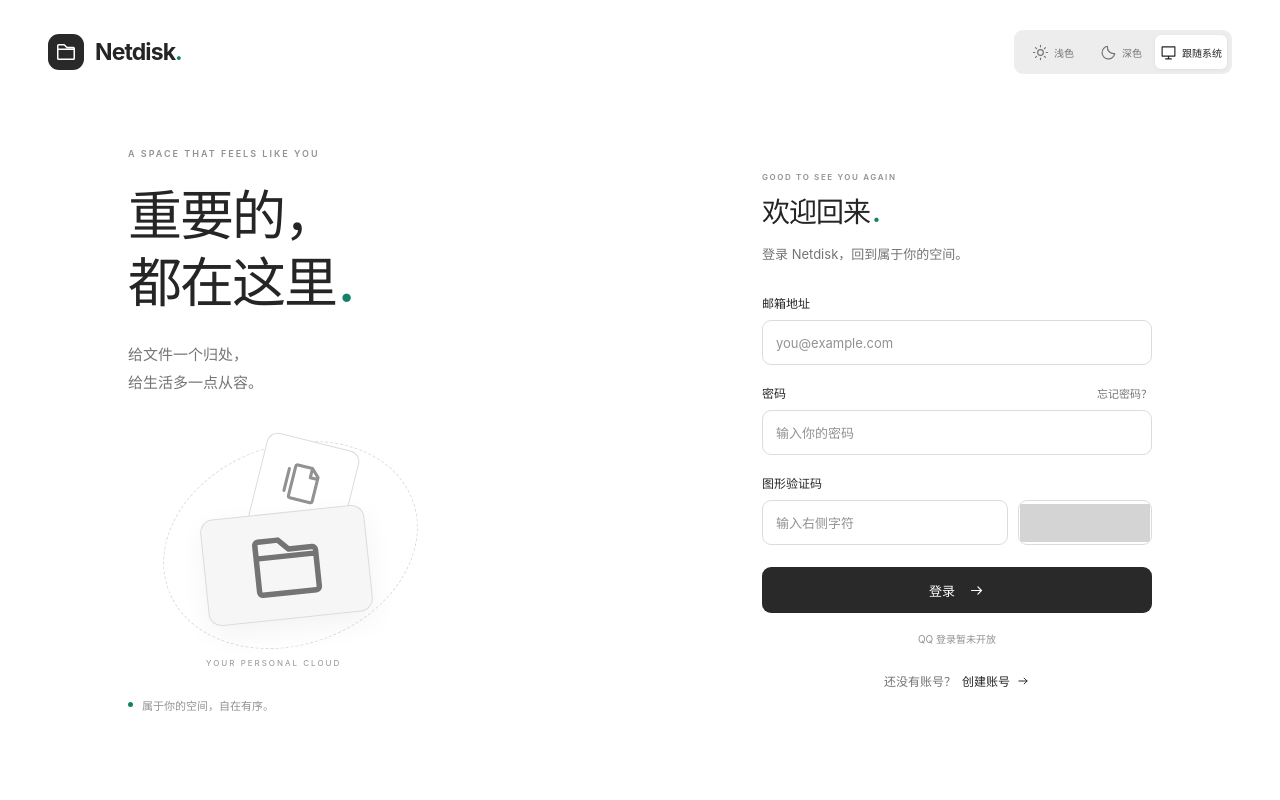
Scenario: 账号表单 › 登录失败显示服务端原因并刷新一次性验证码
Type "someone@example.com" into the field with id "email" at [957, 343], box [762,320,1152,365]
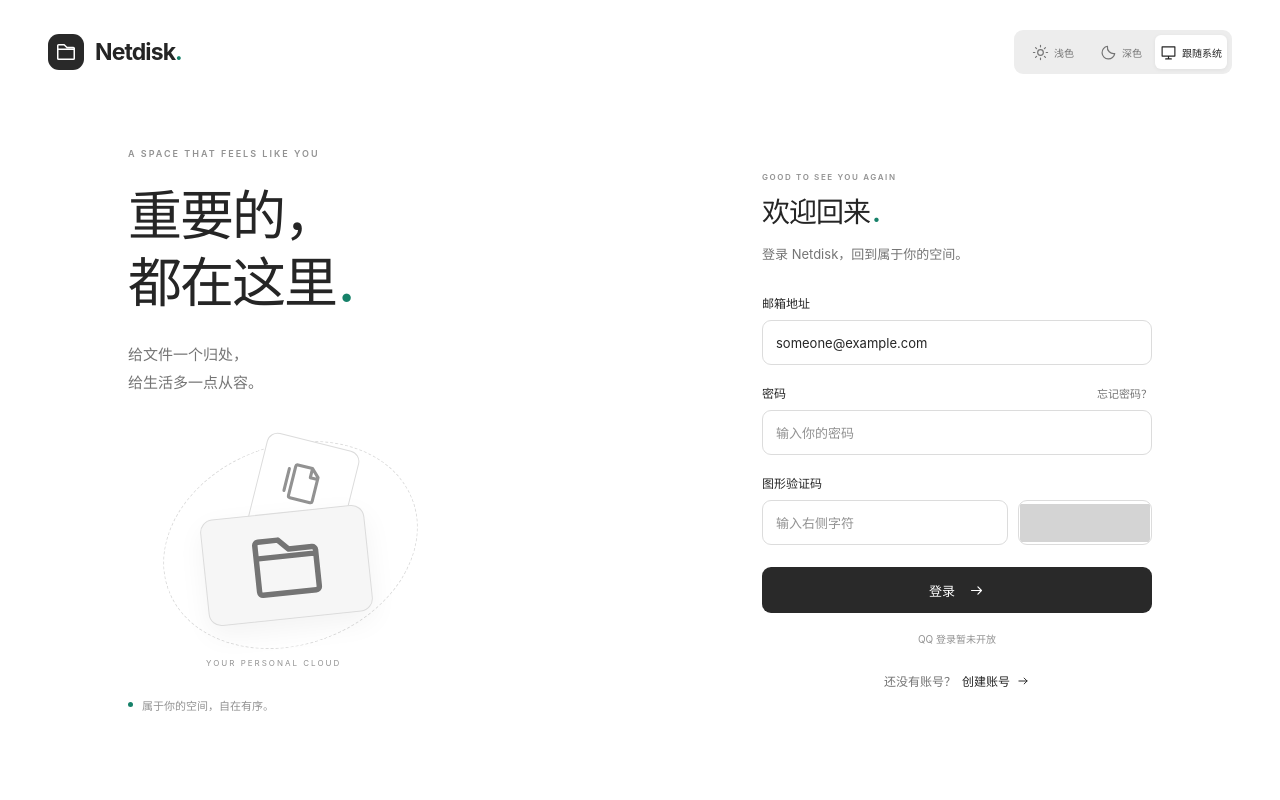
Type "Secret1!" into the password field labelled "密码" at [957, 433], box [762,410,1152,455]
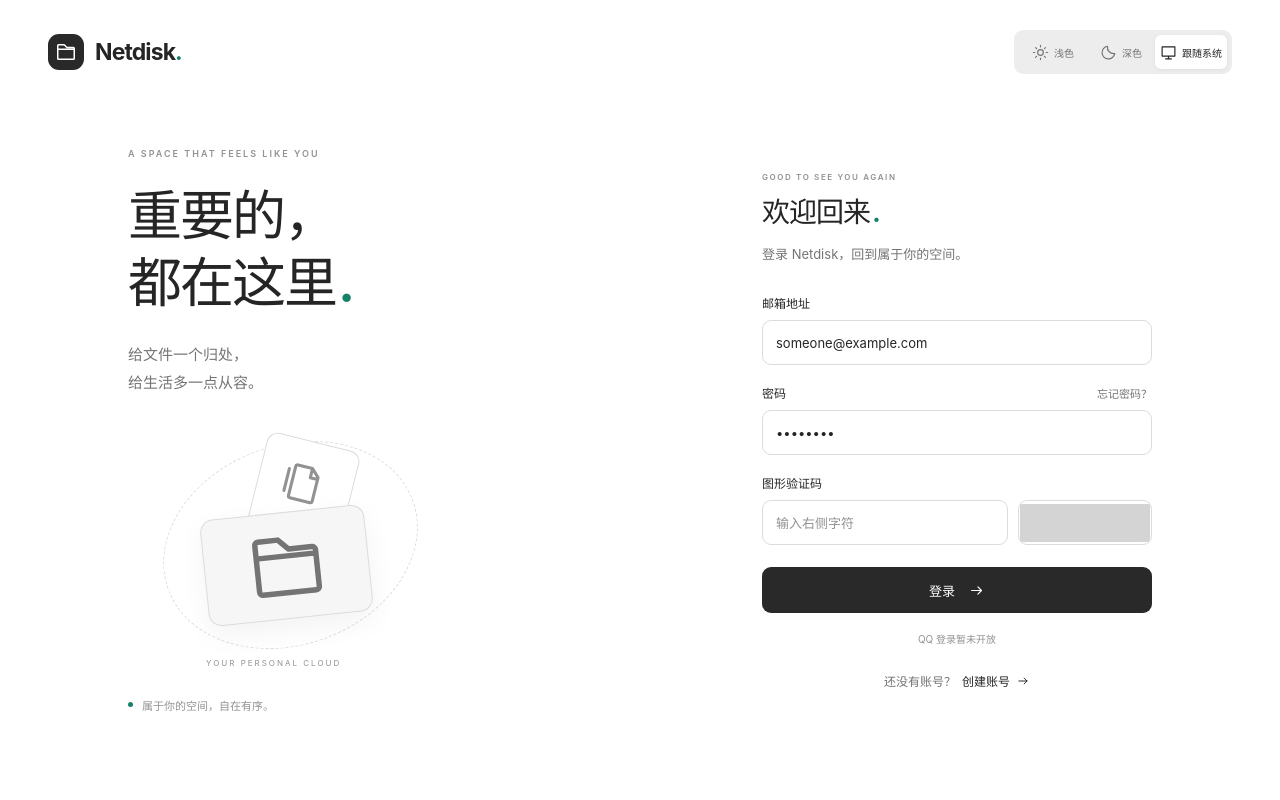
Type "AB123" into the field with id "check-code" at [885, 523], box [762,500,1008,545]
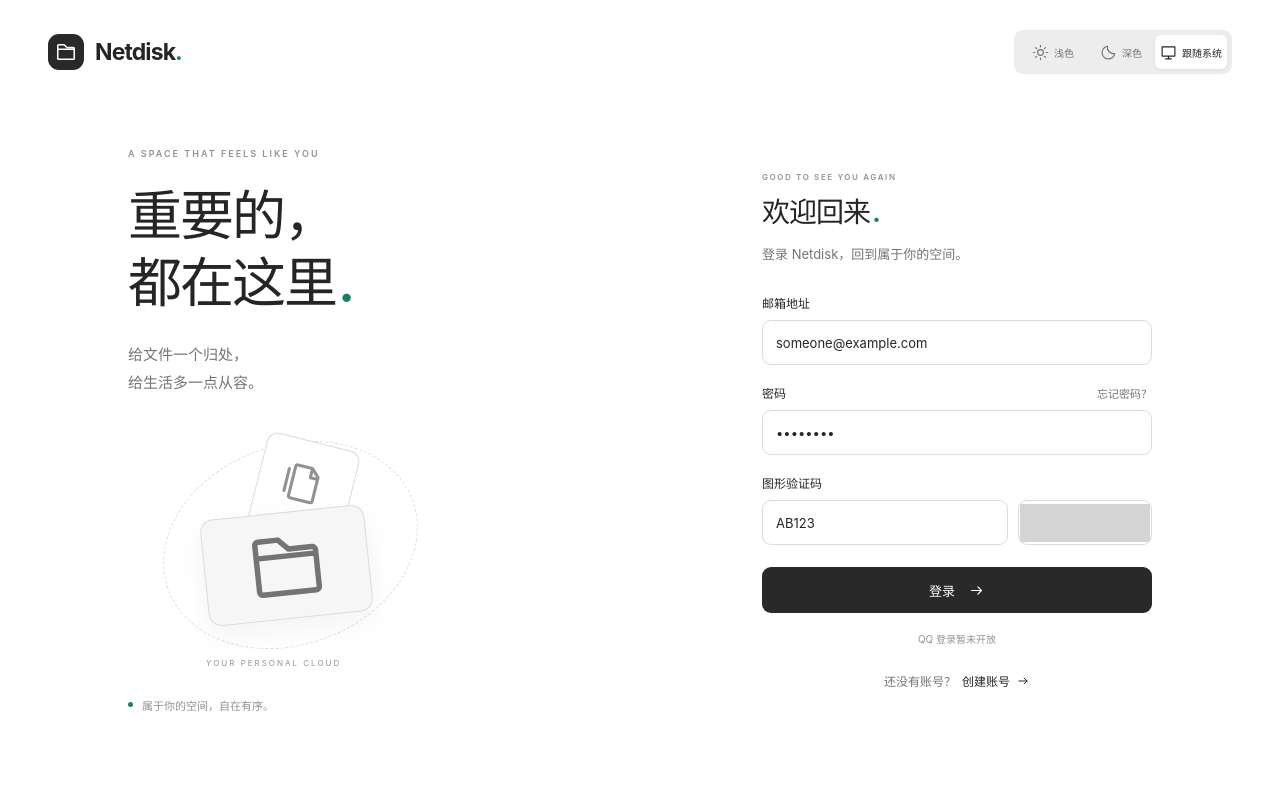
Submit the form, box [762,294,1152,613]
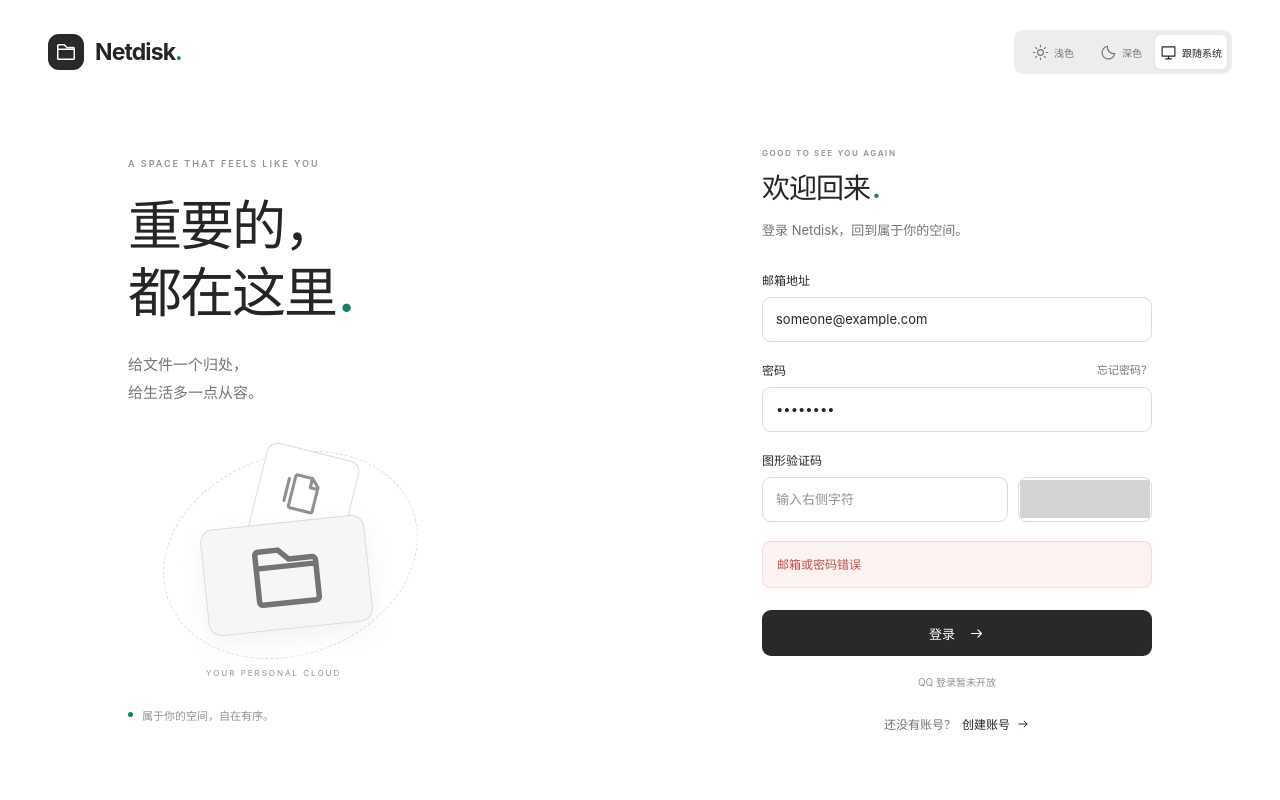
Expected: the message with class "form-error" reads "邮箱或密码错误", [777,557,861,572]
Expected: the field with id "check-code" is empty, [762,477,1008,522]
